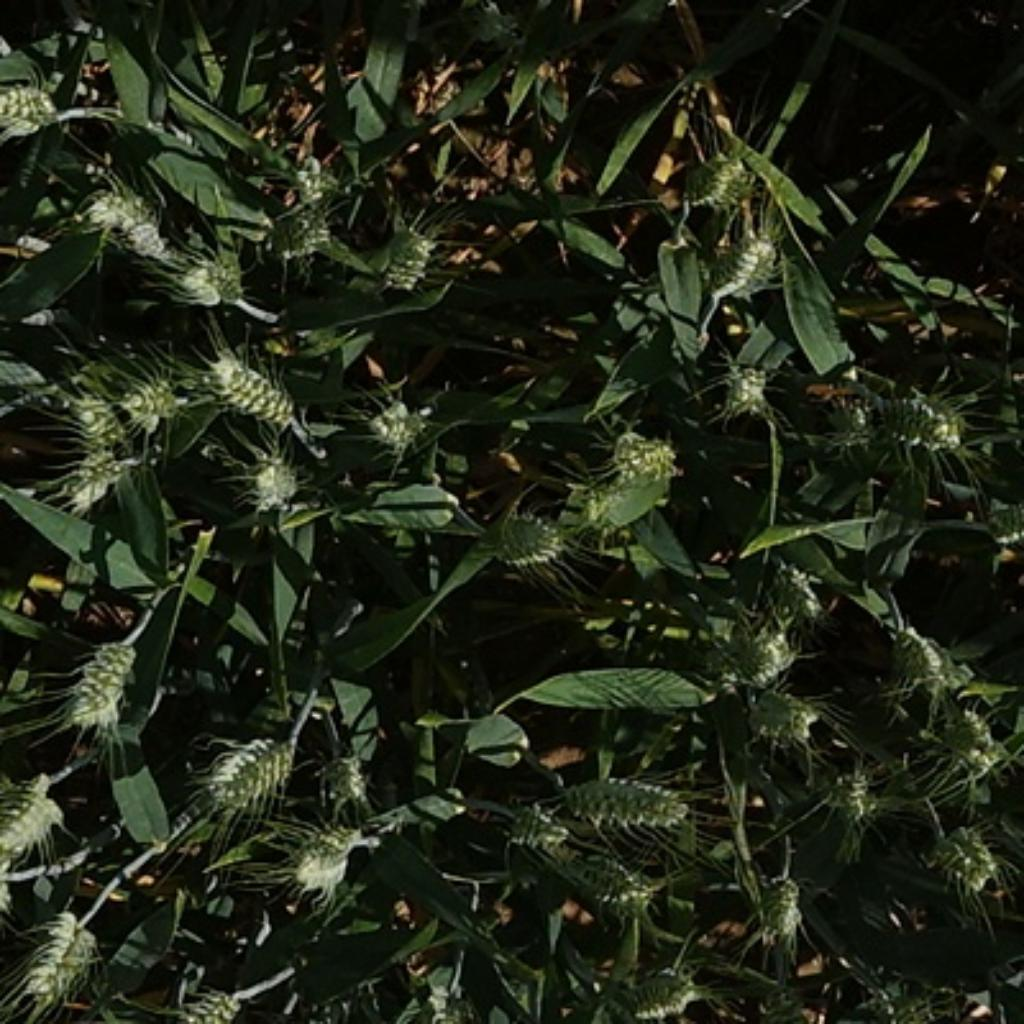0-0: (816, 368, 980, 473), (581, 417, 683, 532), (58, 376, 138, 512), (525, 817, 650, 904), (550, 765, 701, 837), (263, 143, 348, 268), (192, 721, 299, 816), (53, 624, 143, 734), (15, 901, 102, 1008), (197, 343, 302, 430), (678, 609, 798, 680), (81, 168, 171, 261), (739, 547, 832, 637), (878, 611, 977, 693), (701, 217, 788, 304), (478, 496, 576, 573), (279, 811, 366, 896), (916, 688, 1003, 770), (924, 814, 1006, 890), (732, 860, 808, 942), (606, 960, 701, 1024), (371, 207, 445, 289), (678, 140, 762, 212), (737, 680, 821, 750), (0, 774, 67, 858), (821, 762, 896, 834), (360, 389, 437, 453), (171, 245, 248, 307), (0, 76, 65, 144), (238, 448, 307, 512), (166, 978, 251, 1024), (314, 744, 371, 803), (716, 355, 770, 417), (120, 371, 181, 424), (970, 494, 1024, 550), (468, 0, 527, 51)
